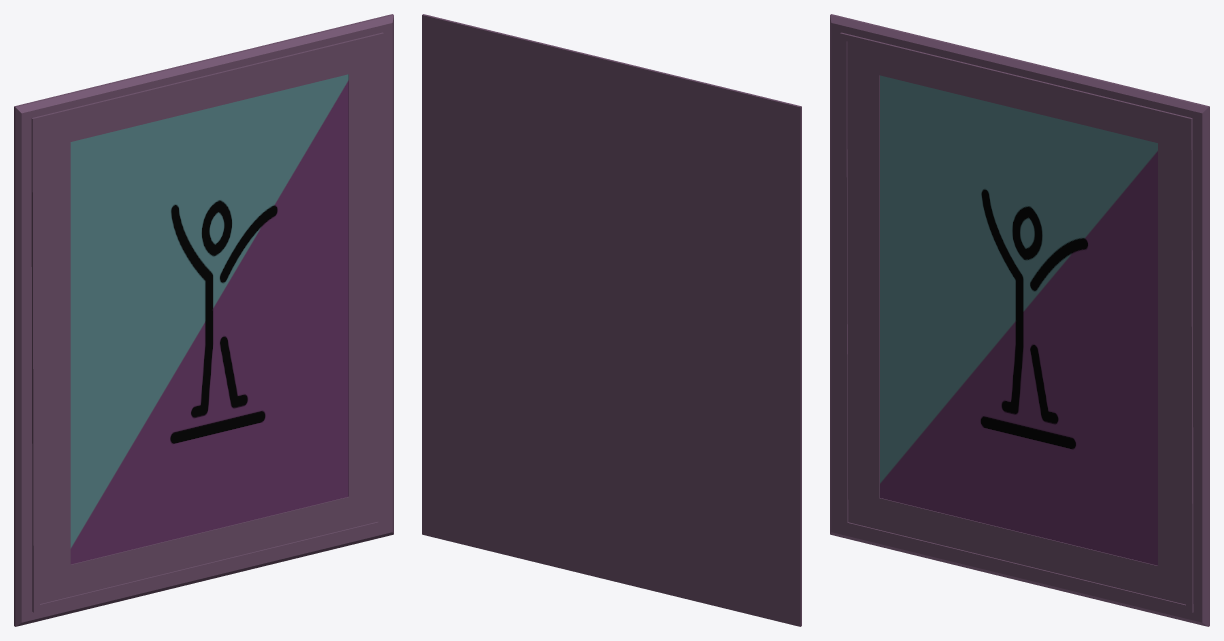
The model's file is Picture.obj.
3 renders of one model, left to right at view 1: azimuth 30°, elevation 25°; view 2: azimuth 150°, elevation 25°; view 3: azimuth 330°, elevation 25°, orthographic.
Parts seen in each view (by area): view 1: polySurface71; view 2: polySurface71; view 3: polySurface71.
Boxes of the visible parts, <box> form: polySurface71: <box>14,14,393,626</box>; polySurface71: <box>422,14,801,626</box>; polySurface71: <box>830,14,1209,626</box>.
Bounding box in the file's own units: 5.54 × 7.27 × 0.1255.
2 materials, 2 textured.
